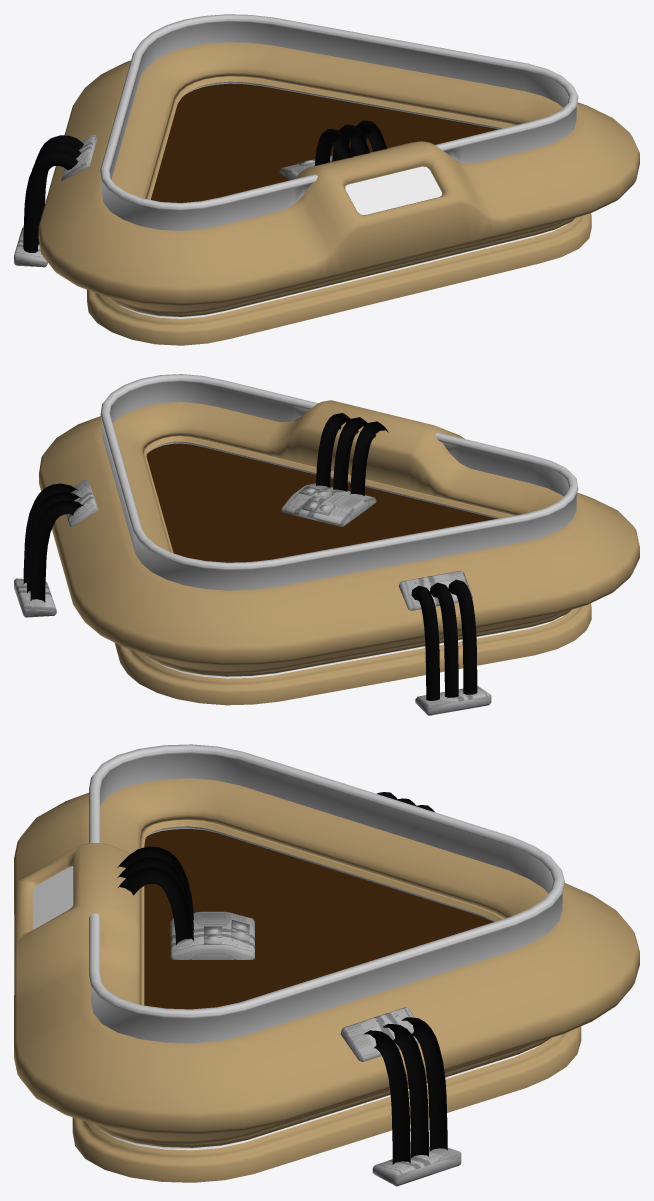
The model's file is ChargeStation.fbx.
3 renders of one model, top to bottom at view 1: azimuth 30°, elevation 25°; view 2: azimuth 150°, elevation 25°; view 3: azimuth 270°, elevation 25°, orthographic. The views are drawn at different scales.
Visible parts, largest first — view 1: Plane.003; view 2: Plane.003; view 3: Plane.003.
Part boxes in pixels (x1=…): Plane.003: x1=14, y1=14, x2=639, y2=345; Plane.003: x1=14, y1=374, x2=639, y2=715; Plane.003: x1=14, y1=744, x2=639, y2=1186.
Size of the model in its own units: 1408 by 372 by 1119.
